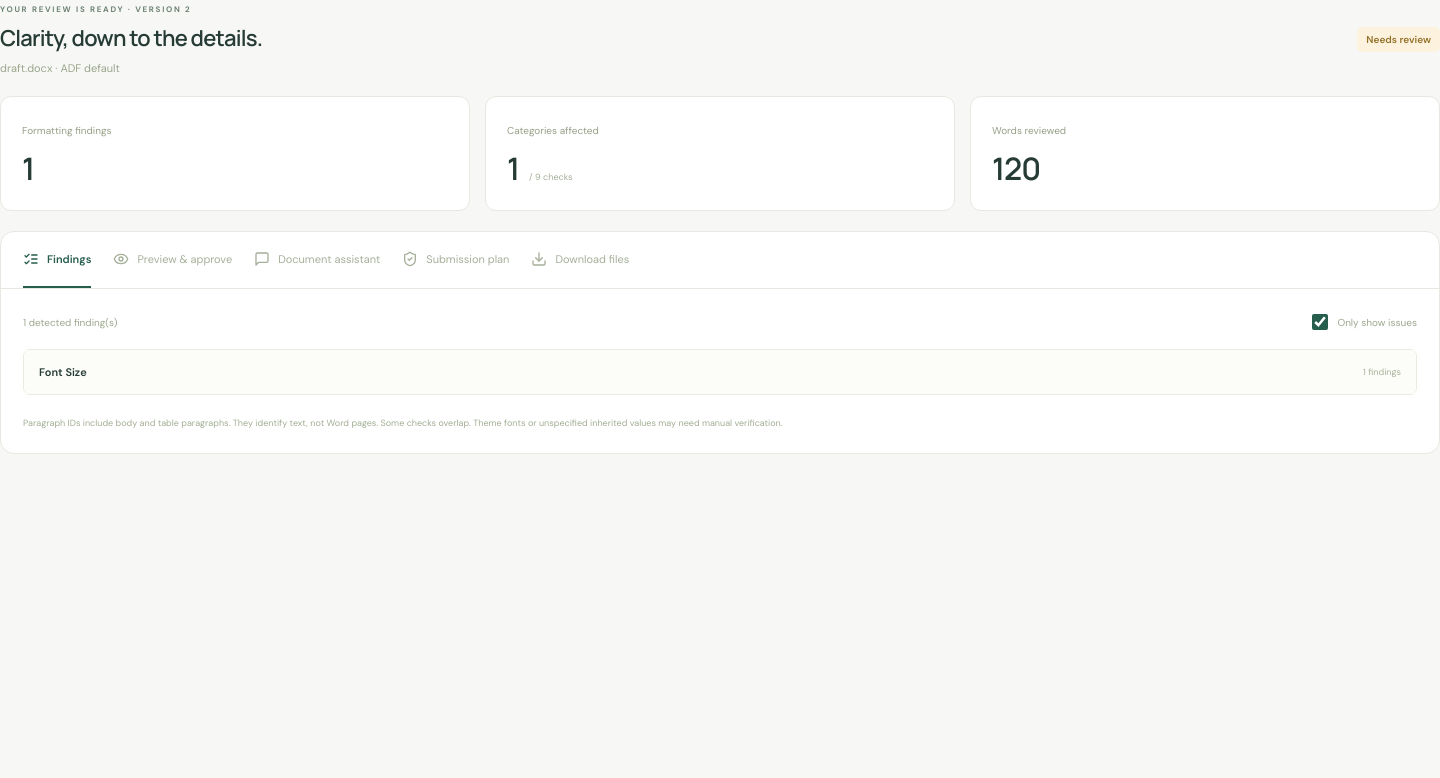
Scenario: Version 2 review workflow › requires a preview before generating an approved copy
This screenshot has width=1440, height=778.
Step 1. Click the tab "Download files" → [580, 260], box [531,232,629,288]
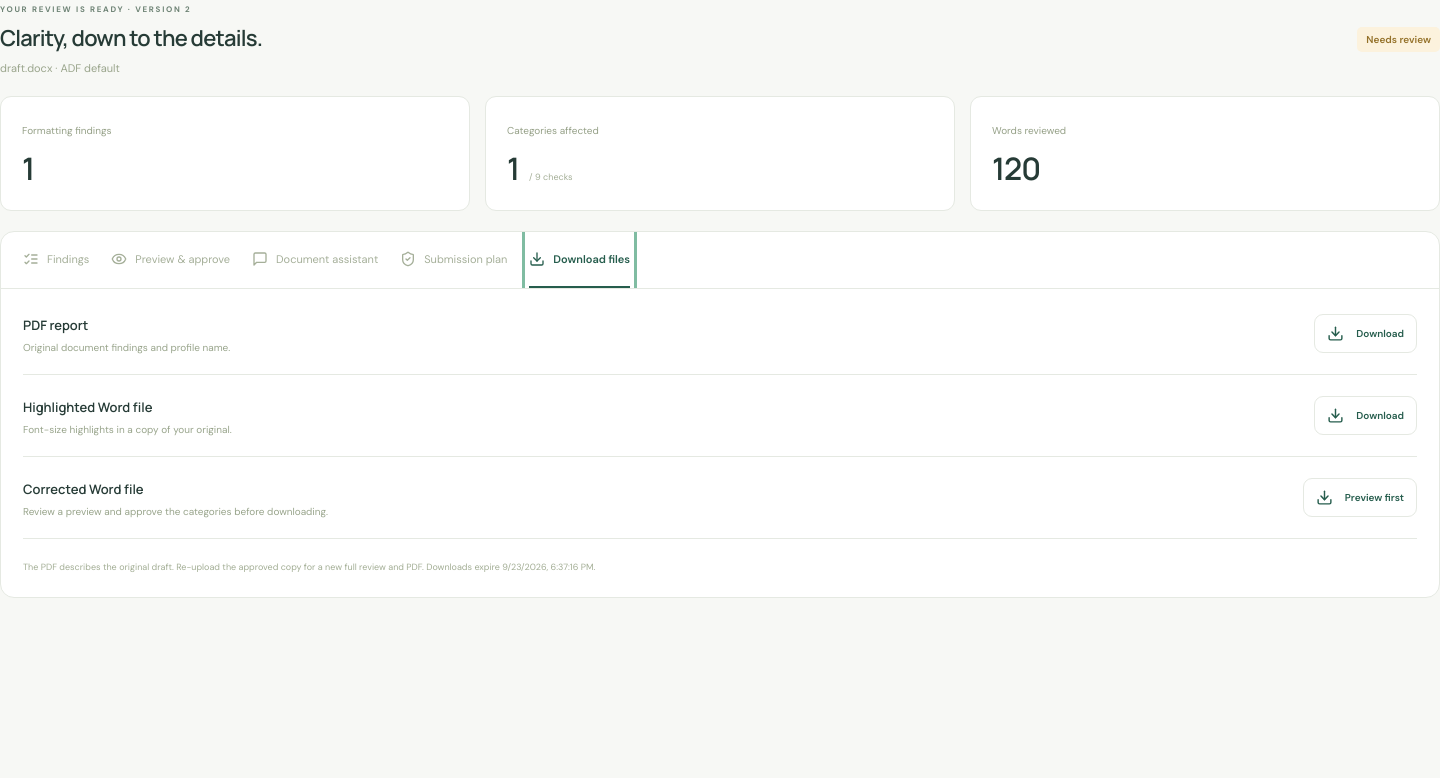
Step 2. Click the button with aria-label "Download Corrected Word file" → [1360, 498], box [1303,478,1417,517]
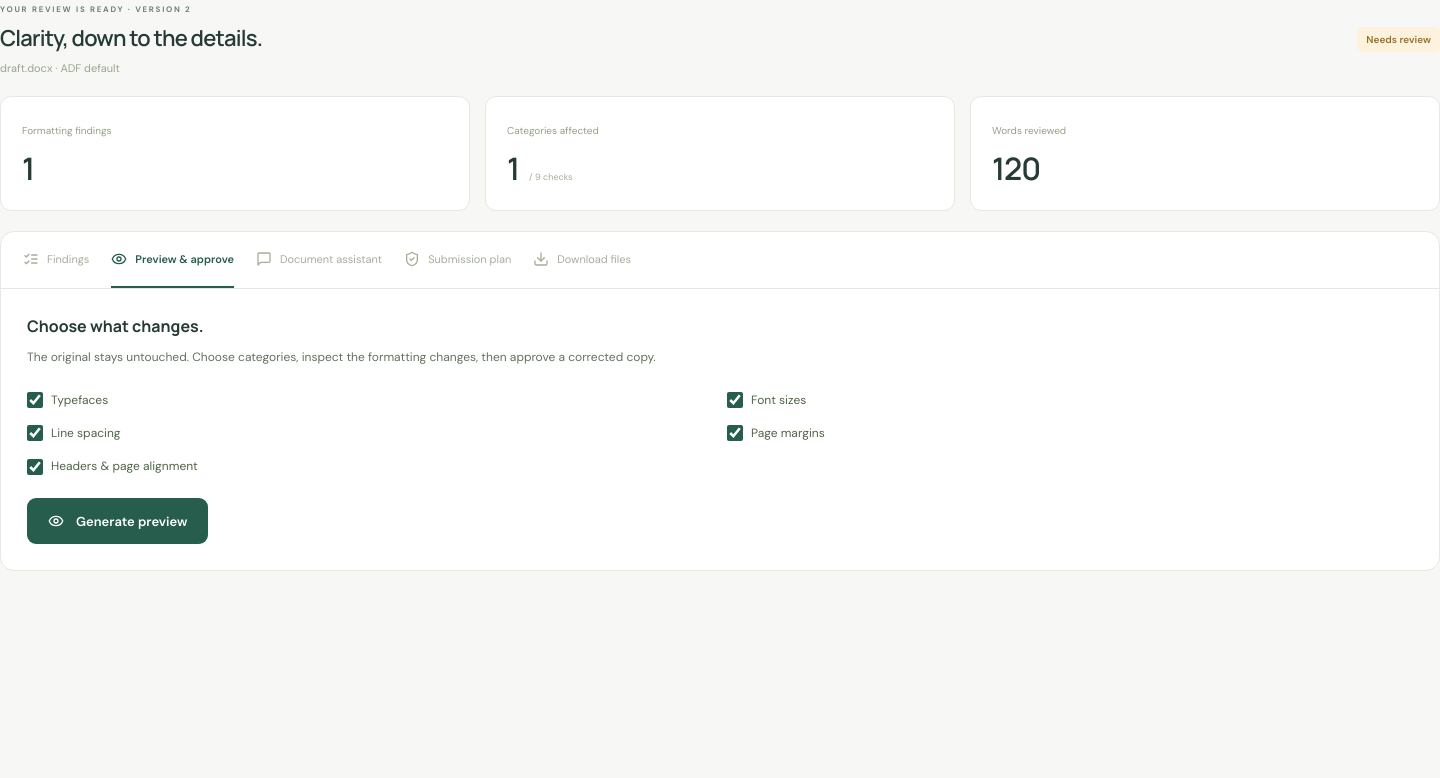
Check: the heading "Choose what changes." is shown, box [27,315,204,337]
Step 3. Click the button "Generate preview" → [118, 521], box [27,498,208,544]
(page scrolled)
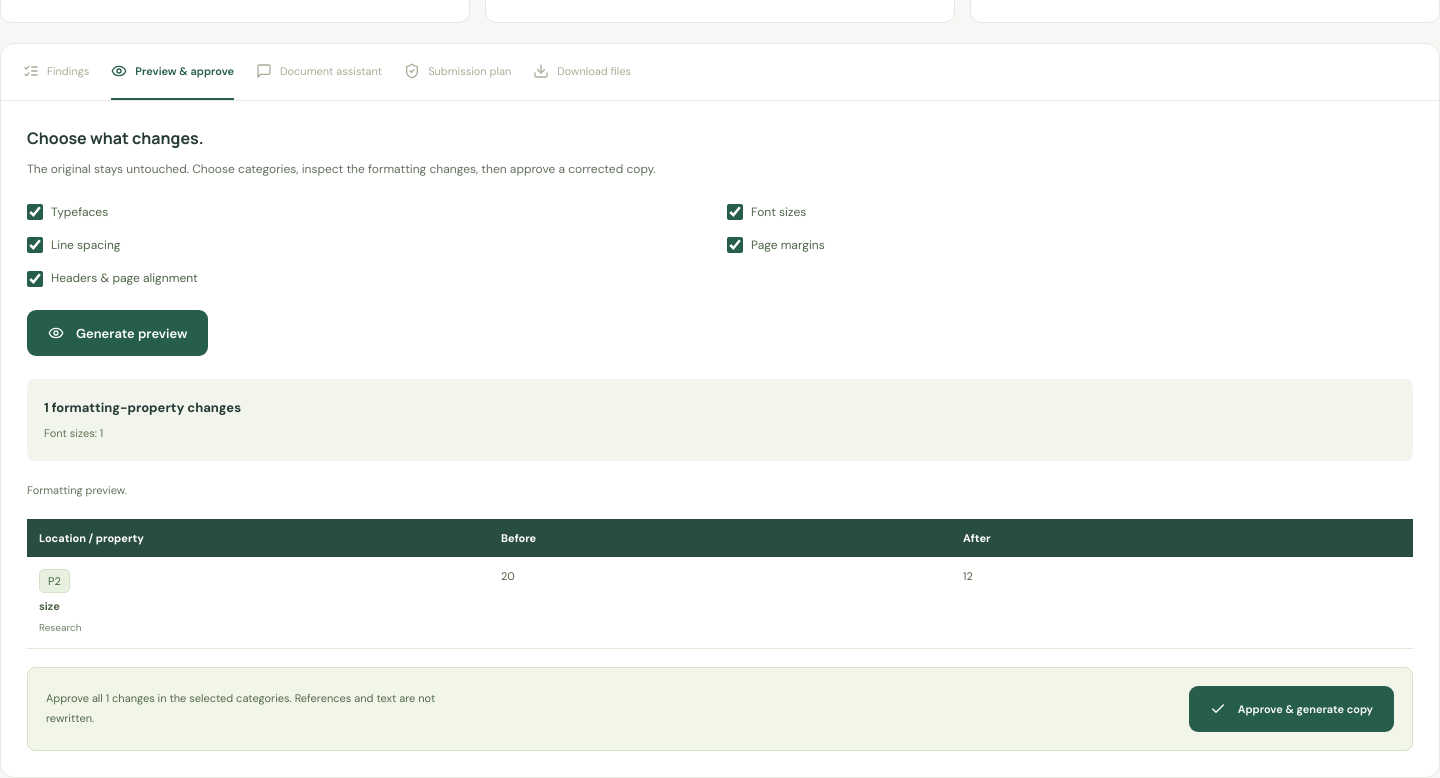
Check: the text "1 formatting-property changes" is shown, box [44,399,241,416]
Step 4. Click the button "Approve & generate copy" → [1291, 709], box [1189,686,1394,732]
(page scrolled)
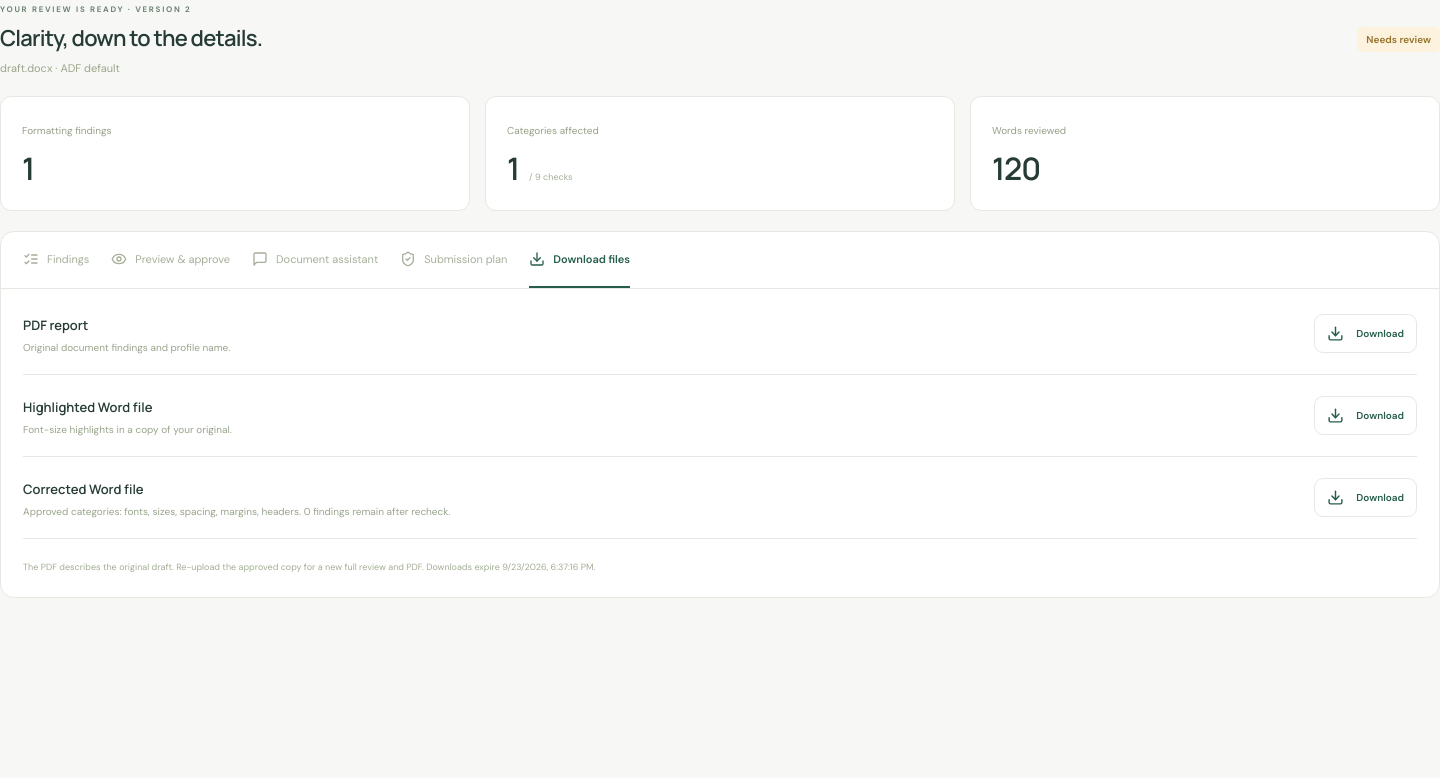
Check: the text "Approved categories:" is shown, box [23,505,450,518]
